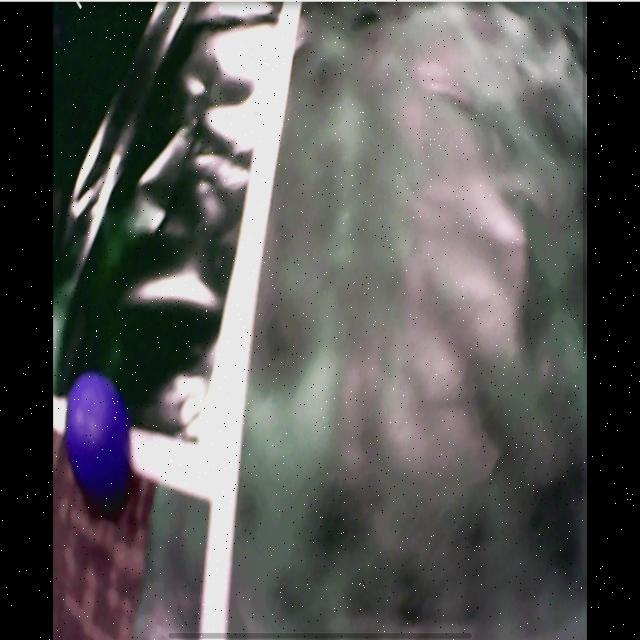ball: (66, 374, 130, 493)
